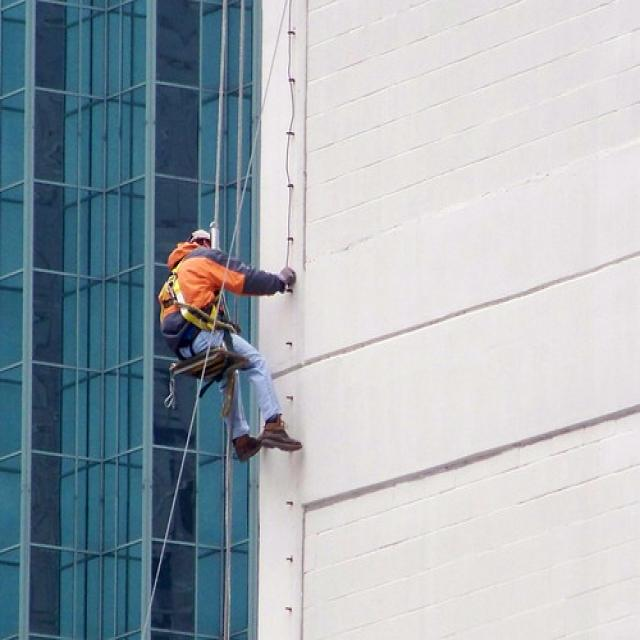Reflective-Jacket: (151, 235, 248, 348)
